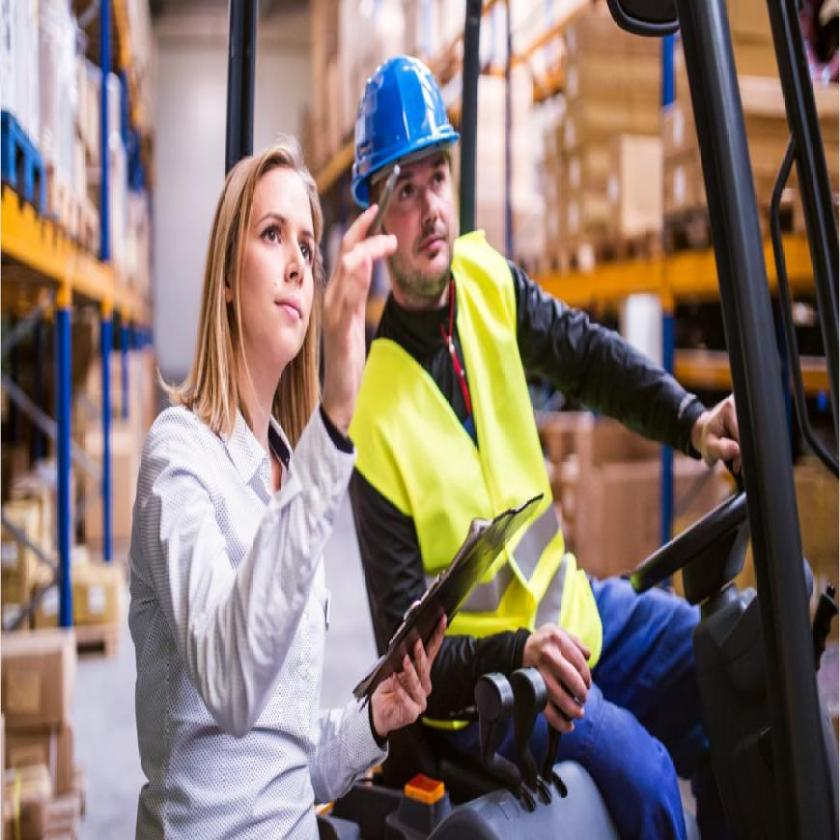Con_casco: (350, 49, 471, 308)
Sin_casco: (209, 141, 322, 376)
